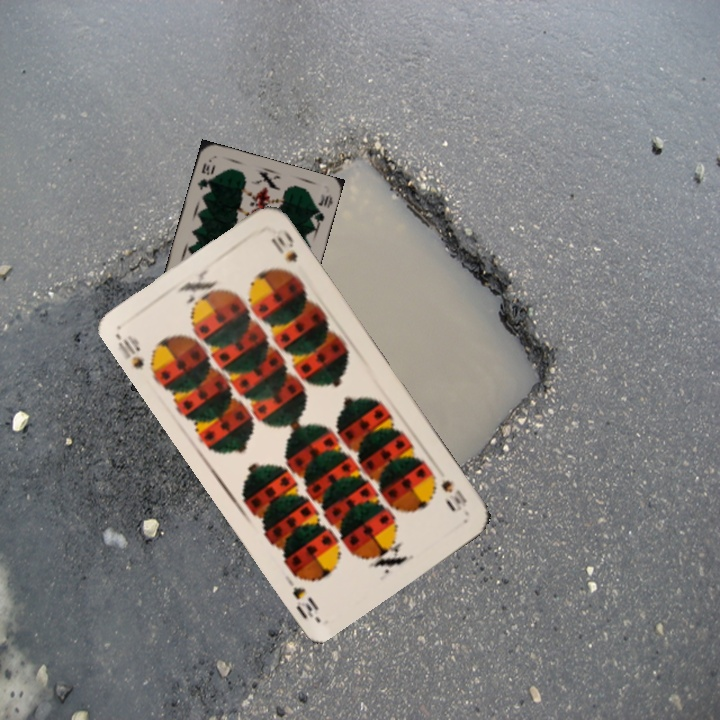G10: (193, 159, 218, 193)
S10: (427, 468, 470, 514), (112, 330, 147, 374)
